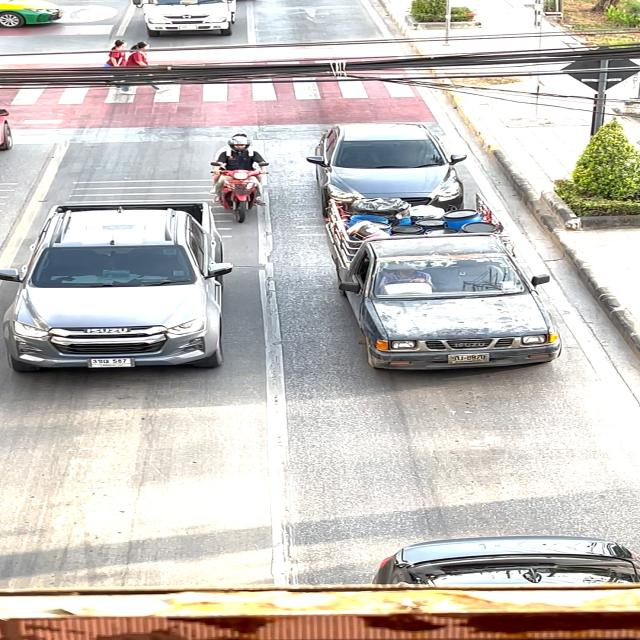car: (0, 188, 250, 384), (305, 202, 554, 367), (303, 107, 475, 231)
